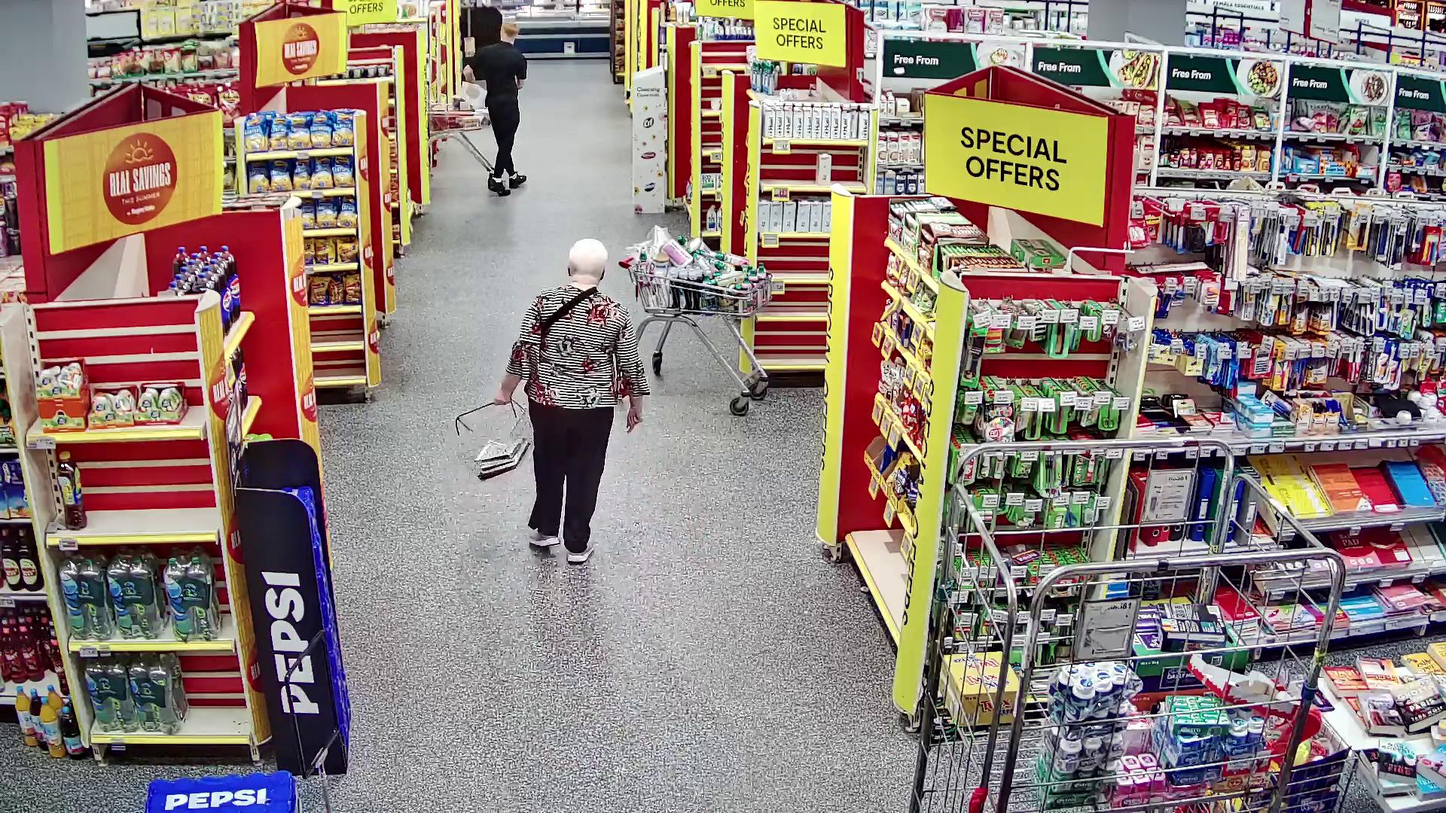filled-basket: (454, 395, 530, 480)
person: (496, 238, 651, 562)
person-with-filled-basket-trolly: (456, 238, 650, 563)
